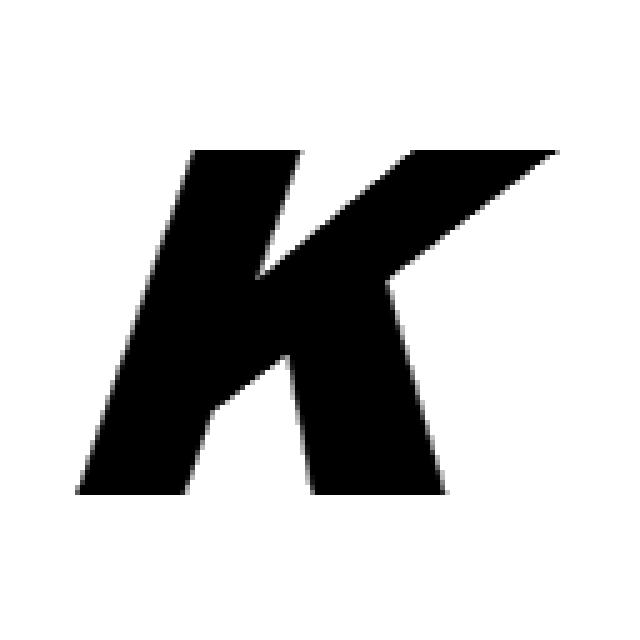K: (65, 135, 560, 505)
